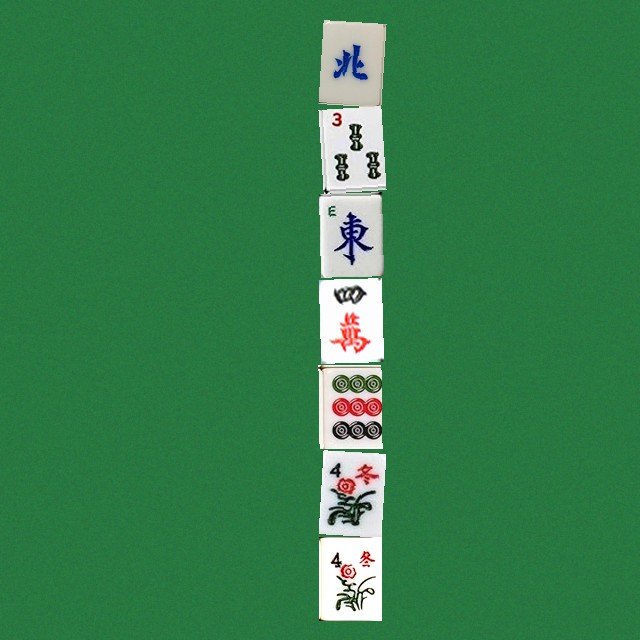tile: (318, 20, 381, 104), (318, 106, 381, 190), (318, 192, 381, 276), (318, 278, 381, 362), (318, 364, 381, 448), (318, 450, 381, 534), (318, 536, 381, 620)
